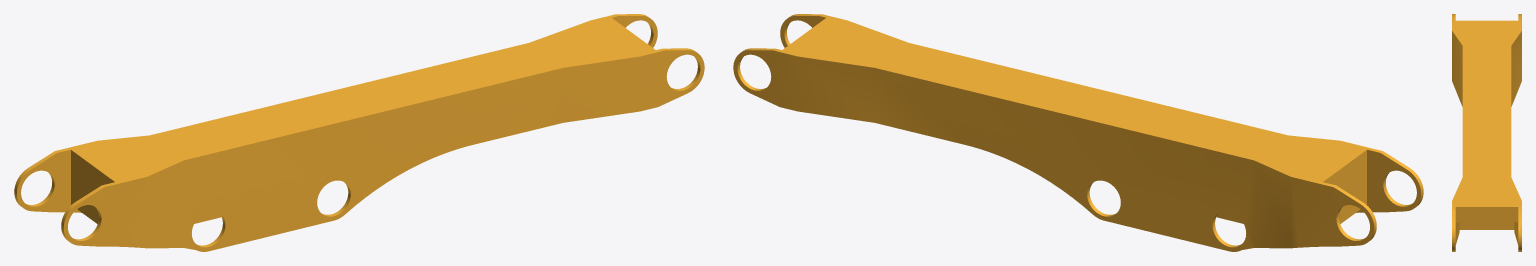
File: body2.dae
3 views of the same model, side by side, from view 1: azimuth 30°, elevation 25°; view 2: azimuth 150°, elevation 25°; view 3: azimuth 270°, elevation 25° (orthographic). The views are drawn at different scales.
Parts seen in each view (by area): view 1: Rhinoceros_Binary_STL___Jul__9_2019__; view 2: Rhinoceros_Binary_STL___Jul__9_2019__; view 3: Rhinoceros_Binary_STL___Jul__9_2019__.
Part boxes in pixels (<box>): Rhinoceros_Binary_STL___Jul__9_2019__: <box>14,14,704,251</box>; Rhinoceros_Binary_STL___Jul__9_2019__: <box>733,14,1423,251</box>; Rhinoceros_Binary_STL___Jul__9_2019__: <box>1452,14,1521,251</box>.
Bounding box in the file's own units: 146 × 19.5 × 21.13.
